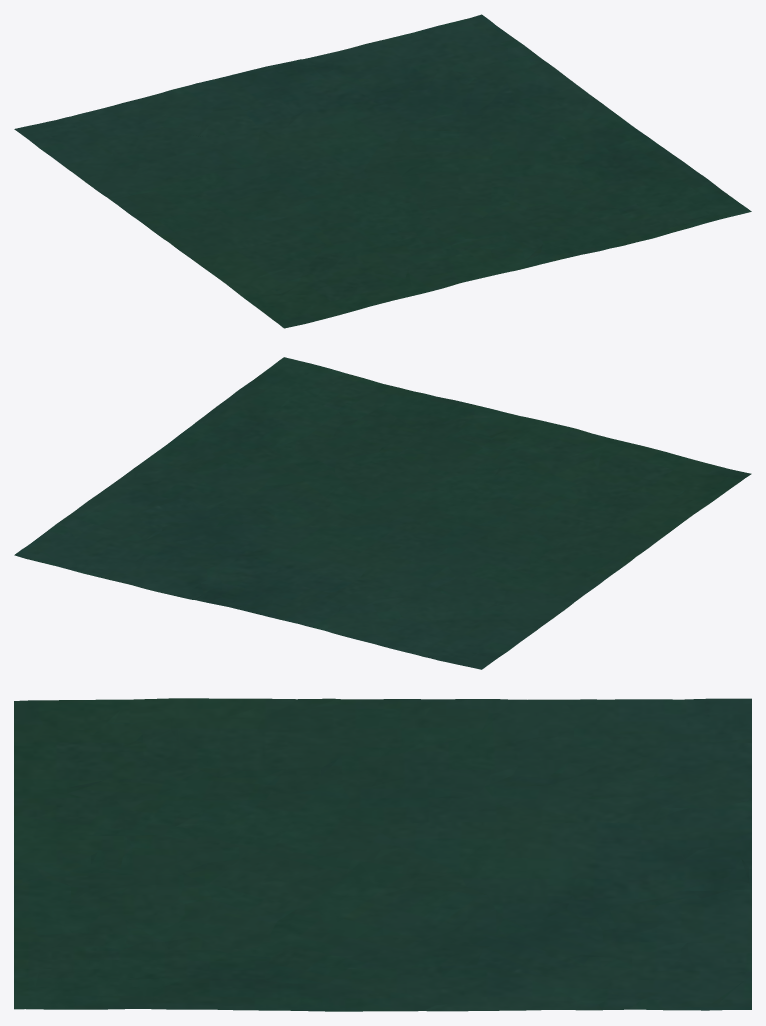
3 views of the same model, one above another, from view 1: azimuth 30°, elevation 25°; view 2: azimuth 150°, elevation 25°; view 3: azimuth 270°, elevation 25° (orthographic). The views are drawn at different scales.
Size of the model in its own units: 104 by 0.8426 by 104.
2 materials, 2 textured.
